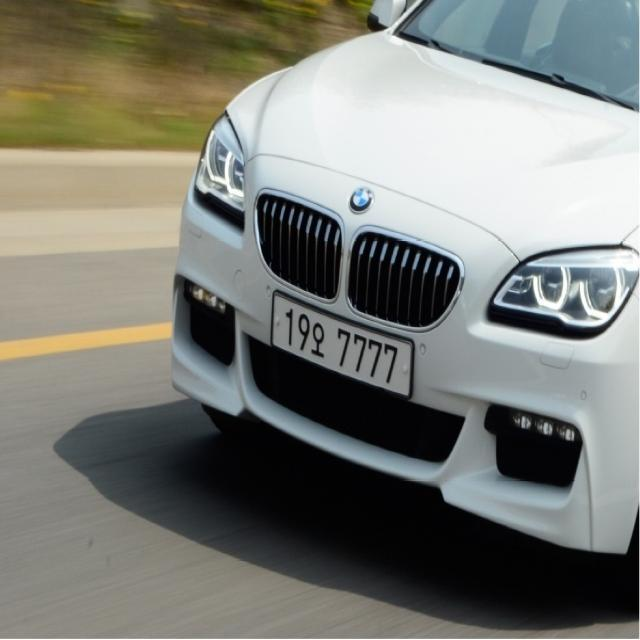car: (261, 264, 433, 413)
